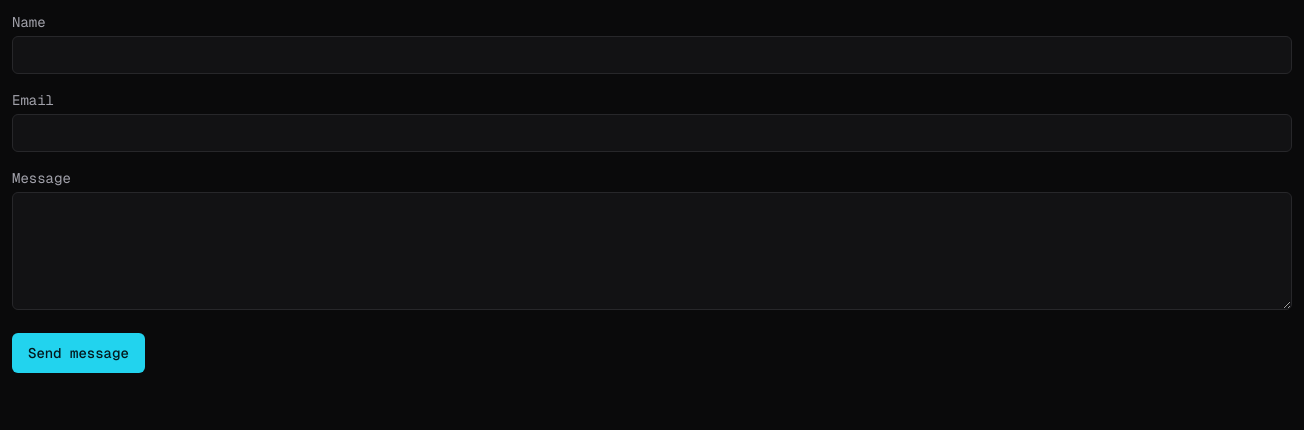
Scenario: ContactForm › shows the generic error message
Click the button "Send message": [78, 353] box [12,333,145,373]
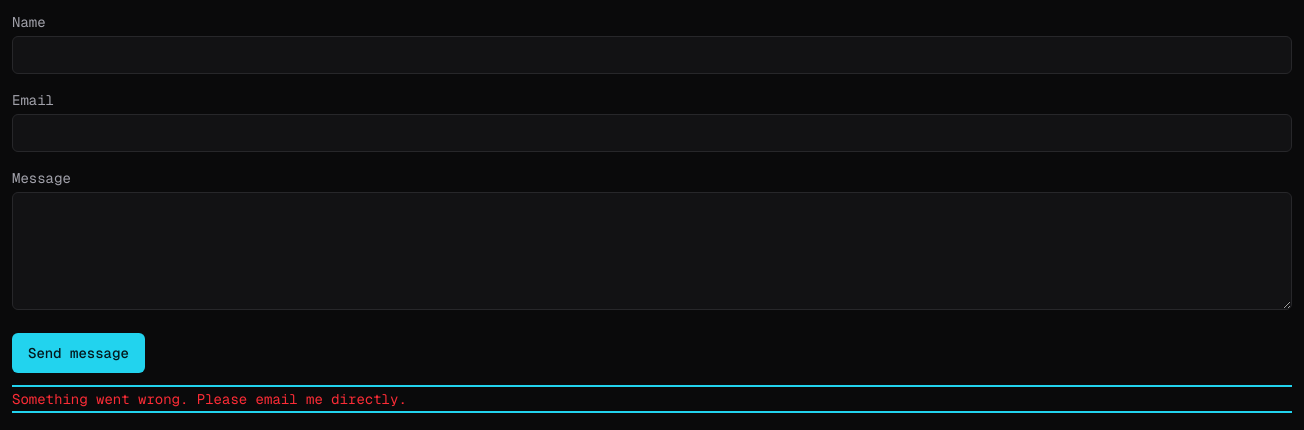
Expected: the text "Something went wrong. Please email me directly." is shown, [12,390,407,408]
